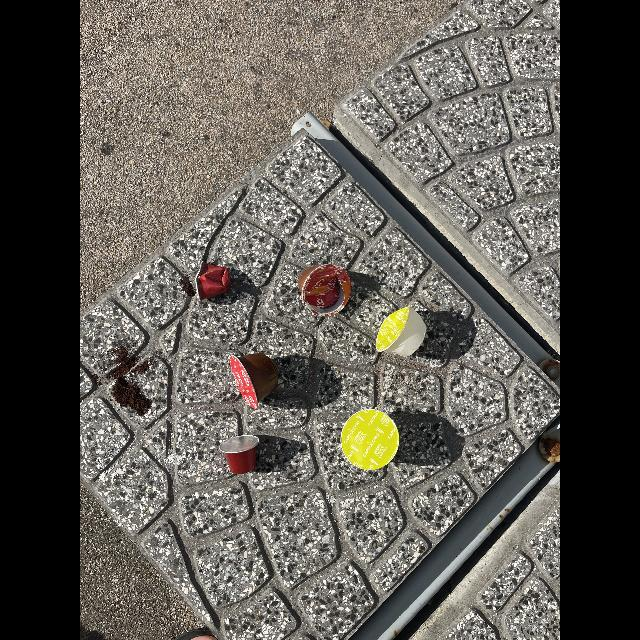damaged_capsule: (297, 261, 355, 321), (374, 304, 431, 361), (192, 260, 238, 304)
intact_capsule: (339, 406, 405, 476), (226, 348, 284, 410), (217, 431, 267, 479)
